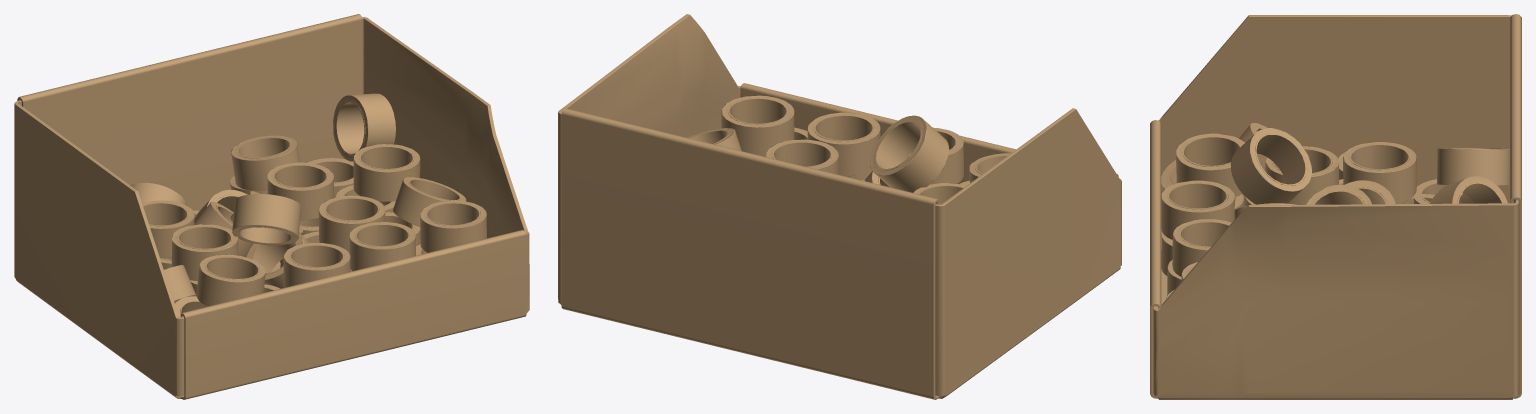
Rendered from box_composition_open_a09.glb.
3 renders of one model, left to right at view 1: azimuth 30°, elevation 25°; view 2: azimuth 150°, elevation 25°; view 3: azimuth 270°, elevation 25°, orthographic. The views are drawn at different scales.
Size of the model in its own units: 0.6161 by 0.3024 by 0.5053.
